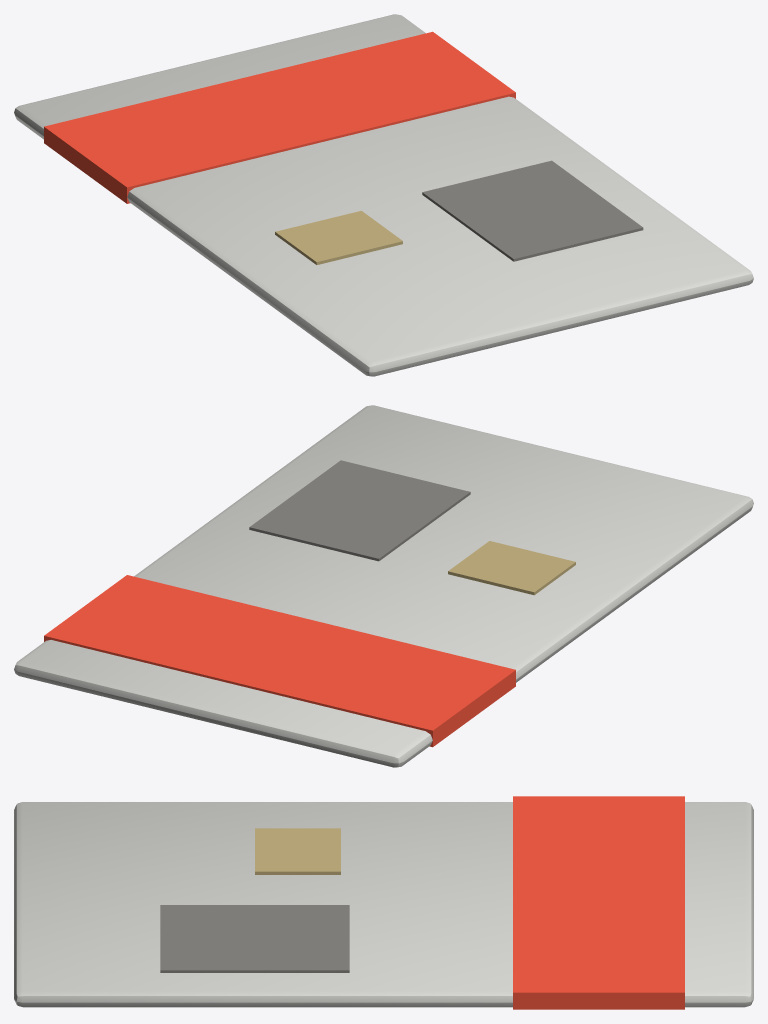
Rendered from keycard.glb.
3 views of the same model, one above another, from view 1: azimuth 30°, elevation 25°; view 2: azimuth 150°, elevation 25°; view 3: azimuth 270°, elevation 25° (orthographic). The views are drawn at different scales.
Parts seen in each view (by area): view 1: keycard; view 2: keycard; view 3: keycard.
Part boxes in pixels (bbox=[...]): keycard: bbox=[14, 14, 753, 376]; keycard: bbox=[14, 405, 753, 767]; keycard: bbox=[14, 796, 753, 1009].
Size of the model in its own units: 0.054 by 0.0024 by 0.086.
